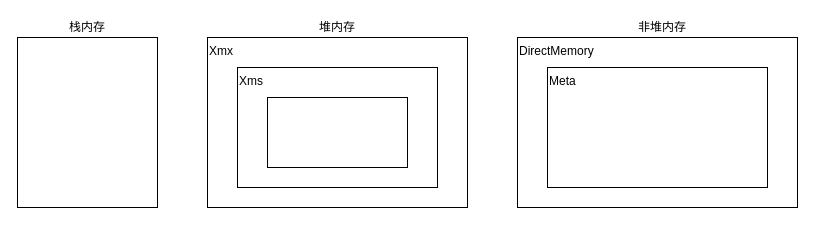
Some shapes in this 815 by 225 pixel diagram are drawn without their labels. Each missing label, with the centre of its shape:
"Xmn" belongs at point 337,132.
"Xss" belongs at point 87,122.
